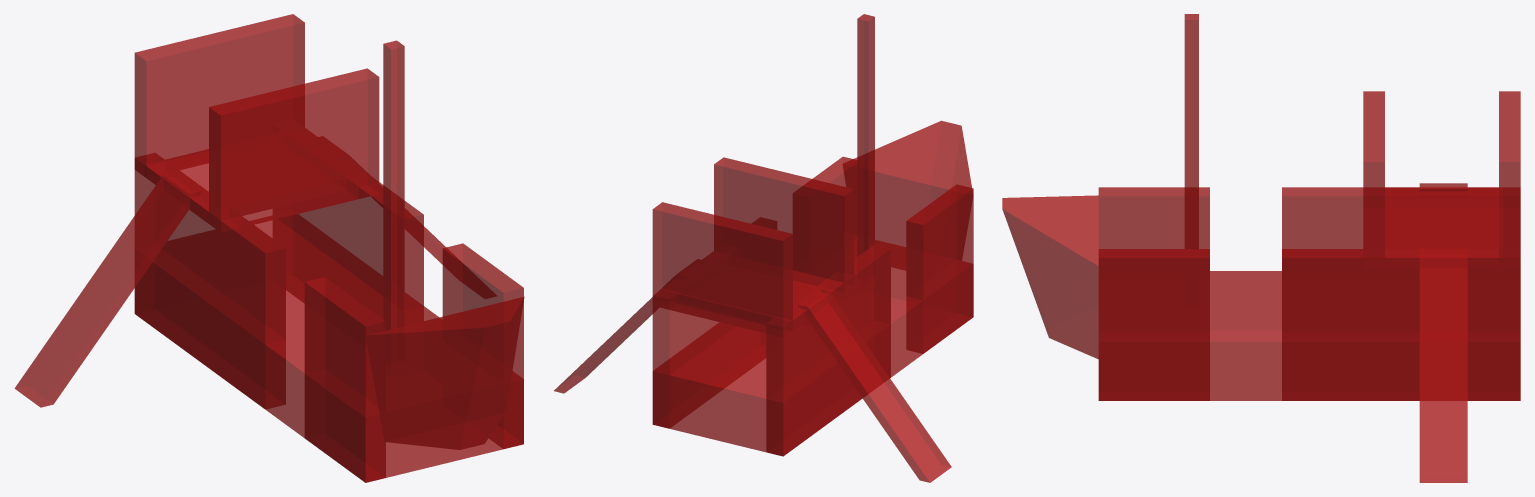
The model's file is SM_Prop_Playground_Ship_01_Collision.fbx.
The picture shows the model from 3 angles, left to right: view 1: azimuth 30°, elevation 25°; view 2: azimuth 150°, elevation 25°; view 3: azimuth 270°, elevation 25°; orthographic projection. The views are drawn at different scales.
Visible parts, largest first — view 1: SM_Prop_Playground_Ship_01_Collision; view 2: SM_Prop_Playground_Ship_01_Collision; view 3: SM_Prop_Playground_Ship_01_Collision.
Part boxes in pixels (x1,y1,x2,y2): SM_Prop_Playground_Ship_01_Collision: (14,14,524,482); SM_Prop_Playground_Ship_01_Collision: (554,14,973,482); SM_Prop_Playground_Ship_01_Collision: (1002,14,1520,482).
Bounding box in the file's own units: 398 × 331 × 427.
